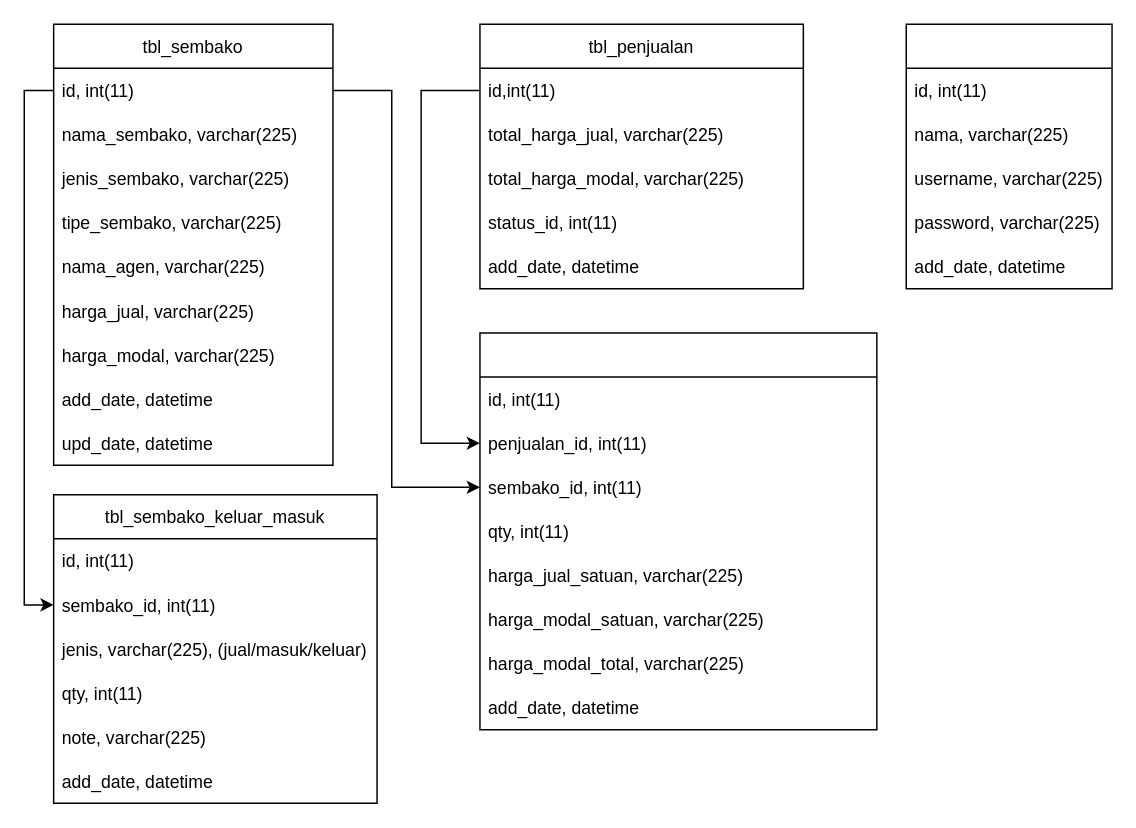
The diagram is 1136 pixels wide and 828 high, and some of its shapes have lost their labels. The shapes that lost their labels are listed below. From the top down, each one's box as (x1, y1, x2, y2) in pixels, then its label:
(905, 23, 1112, 289): tbl_user
(478, 331, 877, 730): tbl_penjualan_detail
